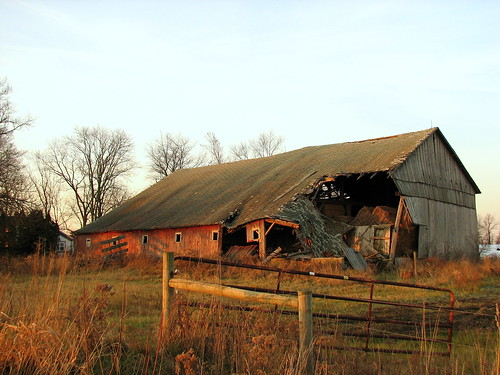building: (82, 152, 480, 270)
grass: (1, 274, 499, 375)
sky: (39, 1, 500, 148)
tree: (1, 88, 65, 232), (51, 127, 139, 224), (148, 129, 191, 177)
